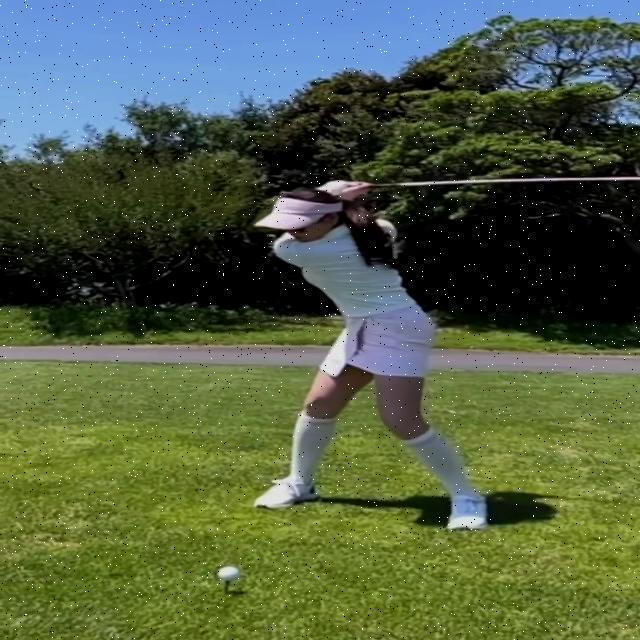GolfBall: (212, 564, 244, 580)
